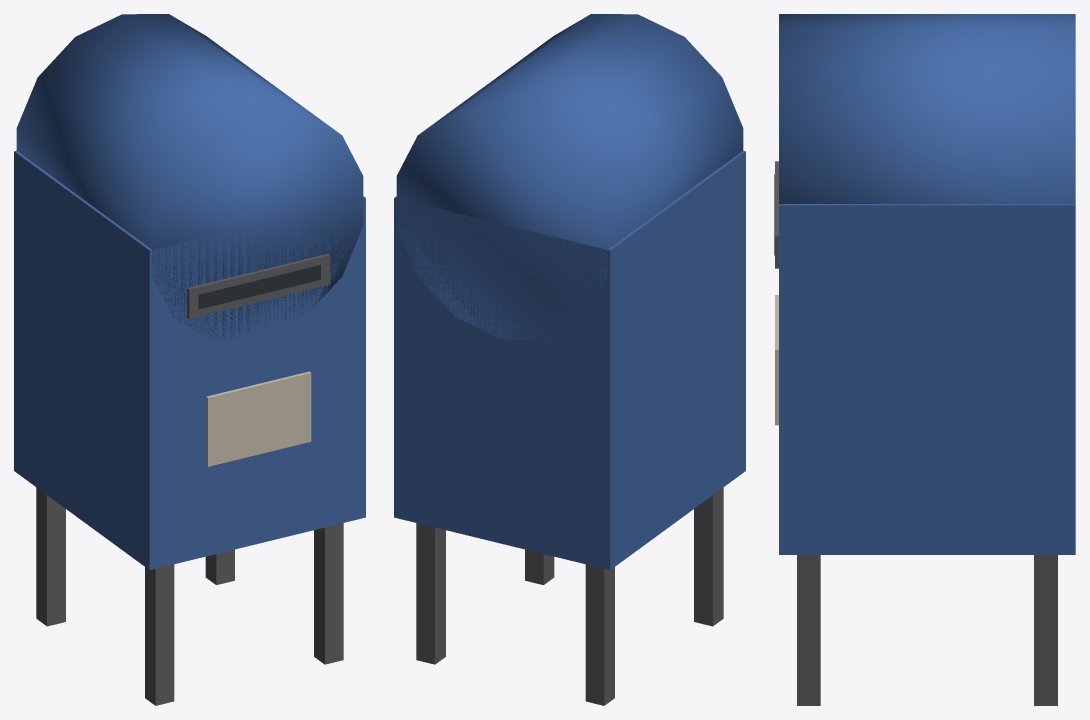
Rendered from Mailbox.glb.
The picture shows the model from 3 angles, left to right: view 1: azimuth 30°, elevation 25°; view 2: azimuth 150°, elevation 25°; view 3: azimuth 270°, elevation 25°; orthographic projection. The views are drawn at different scales.
Visible parts, largest first — view 1: Mailbox_cube.004, Mailbox_cyl, Mailbox_cube.007, Mailbox_cube, Mailbox_cube.002, Mailbox_cube.001, Mailbox_cube.005, Mailbox_cube.006, Mailbox_cube.003; view 2: Mailbox_cube.004, Mailbox_cyl, Mailbox_cube.001, Mailbox_cube.003, Mailbox_cube, Mailbox_cube.002; view 3: Mailbox_cube.004, Mailbox_cyl, Mailbox_cube.002, Mailbox_cube.003, Mailbox_cube.007.
Boxes of the visible parts, x1,y1,x2,y2 form: Mailbox_cube.004: [14, 150, 365, 569]; Mailbox_cyl: [16, 14, 363, 339]; Mailbox_cube.007: [206, 371, 311, 466]; Mailbox_cube: [145, 564, 174, 705]; Mailbox_cube.002: [314, 523, 343, 664]; Mailbox_cube.001: [36, 487, 65, 626]; Mailbox_cube.005: [187, 254, 330, 318]; Mailbox_cube.006: [198, 265, 320, 309]; Mailbox_cube.003: [205, 549, 234, 584]; Mailbox_cube.004: [394, 150, 745, 569]; Mailbox_cyl: [396, 14, 743, 339]; Mailbox_cube.001: [585, 564, 614, 705]; Mailbox_cube.003: [416, 523, 445, 664]; Mailbox_cube: [694, 487, 723, 626]; Mailbox_cube.002: [525, 549, 554, 584]; Mailbox_cube.004: [779, 204, 1075, 554]; Mailbox_cyl: [779, 14, 1075, 203]; Mailbox_cube.002: [797, 555, 820, 705]; Mailbox_cube.003: [1034, 555, 1057, 705]; Mailbox_cube.007: [775, 295, 778, 425].
Size of the model in its own units: 0.46 by 1.17 by 0.508.
